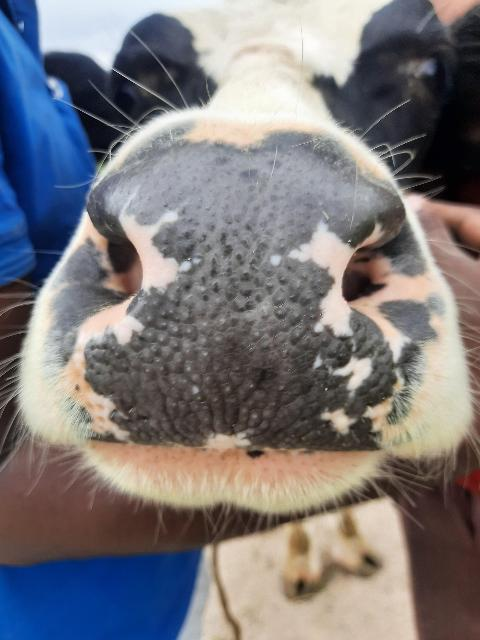Muzzle: (96, 156, 394, 444)
